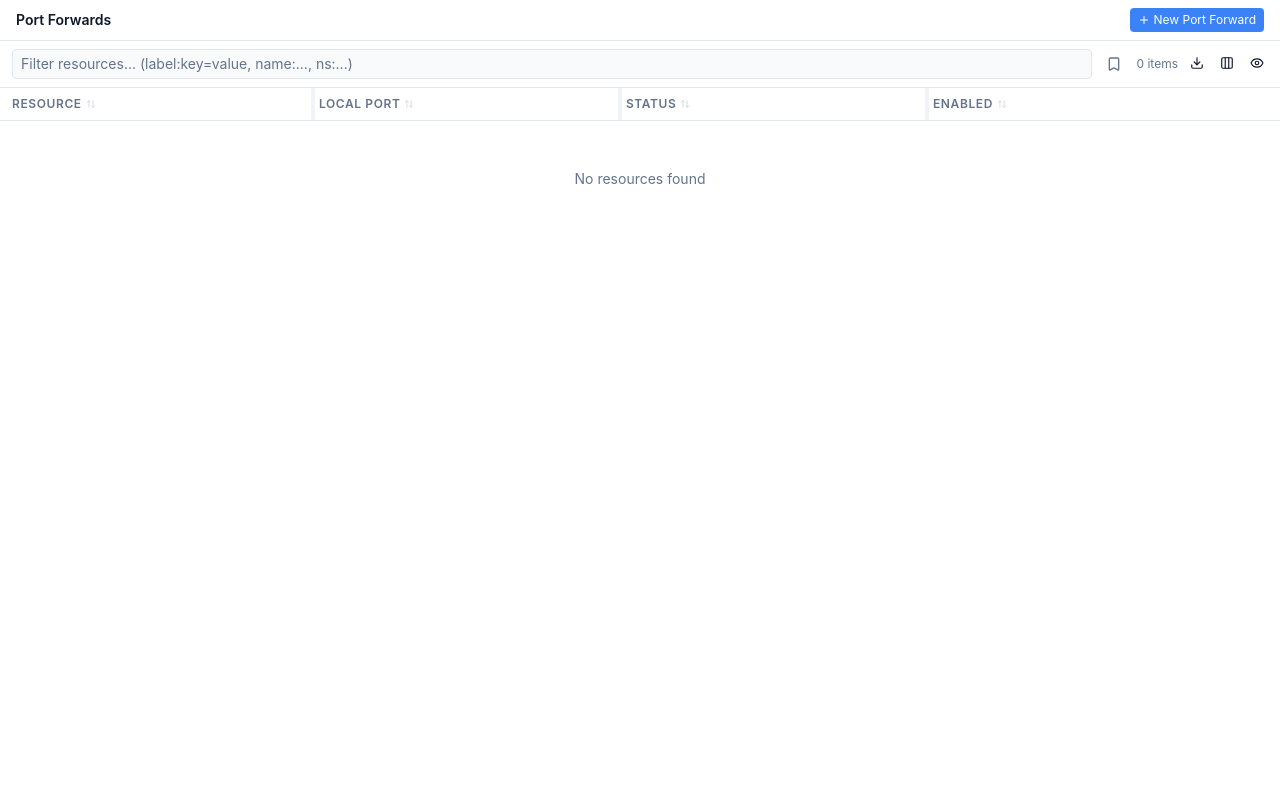
PortForwardPage › New Port Forward button opens dialog
Click the button "New Port Forward".
click(1197, 20)  # box [1130,8,1264,32]
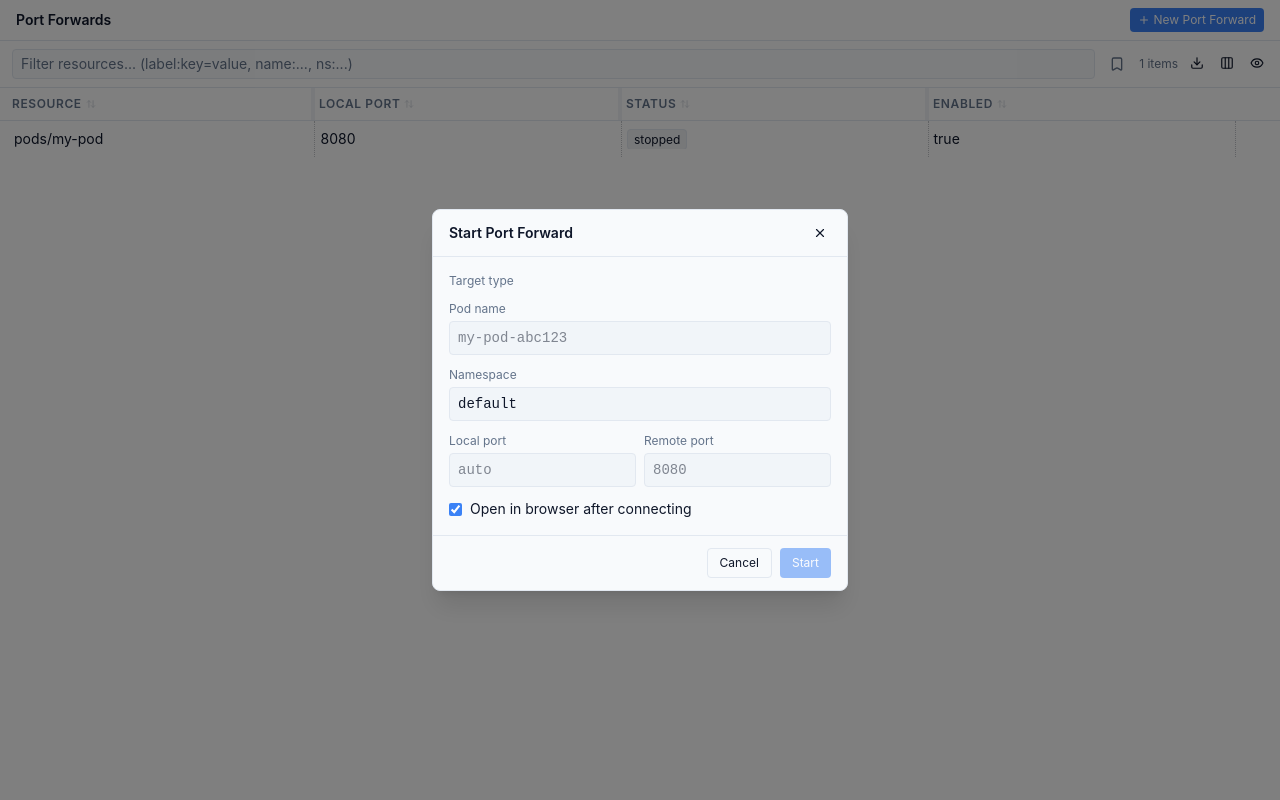
Now the button "Cancel" is shown, box [707,548,772,578]
